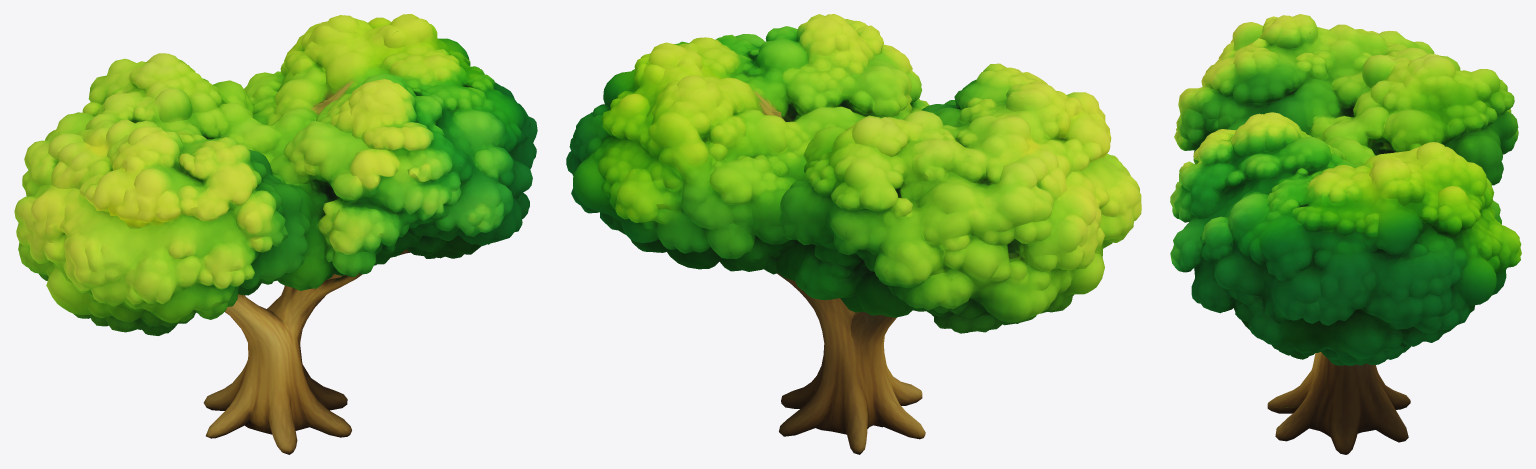
File: tree.glb
The picture shows the model from 3 angles, left to right: view 1: azimuth 30°, elevation 25°; view 2: azimuth 150°, elevation 25°; view 3: azimuth 270°, elevation 25°; orthographic projection. The views are drawn at different scales.
Visible parts, largest first — view 1: world_0; view 2: world_0; view 3: world_0.
Part boxes in pixels (x1,y1,x2,y2): world_0: [14, 14, 537, 454]; world_0: [566, 14, 1141, 454]; world_0: [1170, 14, 1521, 454].
Bounding box in the file's own units: 1 × 0.6977 × 0.6557.
1 material, 1 textured.
